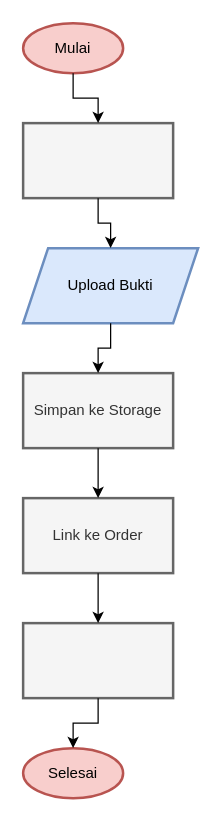
The diagram is 220 pixels wide and 820 high, and some of its shapes have lost their labels. Here are the shapes that lost their labels. From the top down, the centre of each, then its label:
At point (97, 160): "Pilih Transfer".
At point (97, 660): "Menunggu Konfirmasi".
